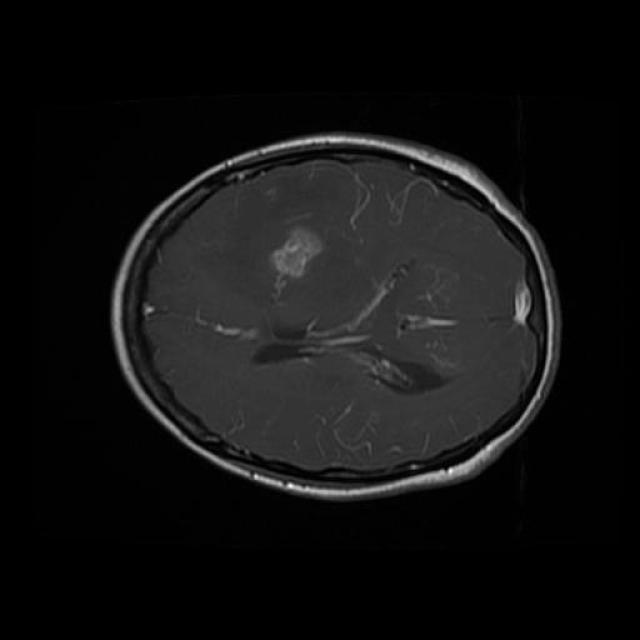Glioma: (270, 226, 322, 281)
